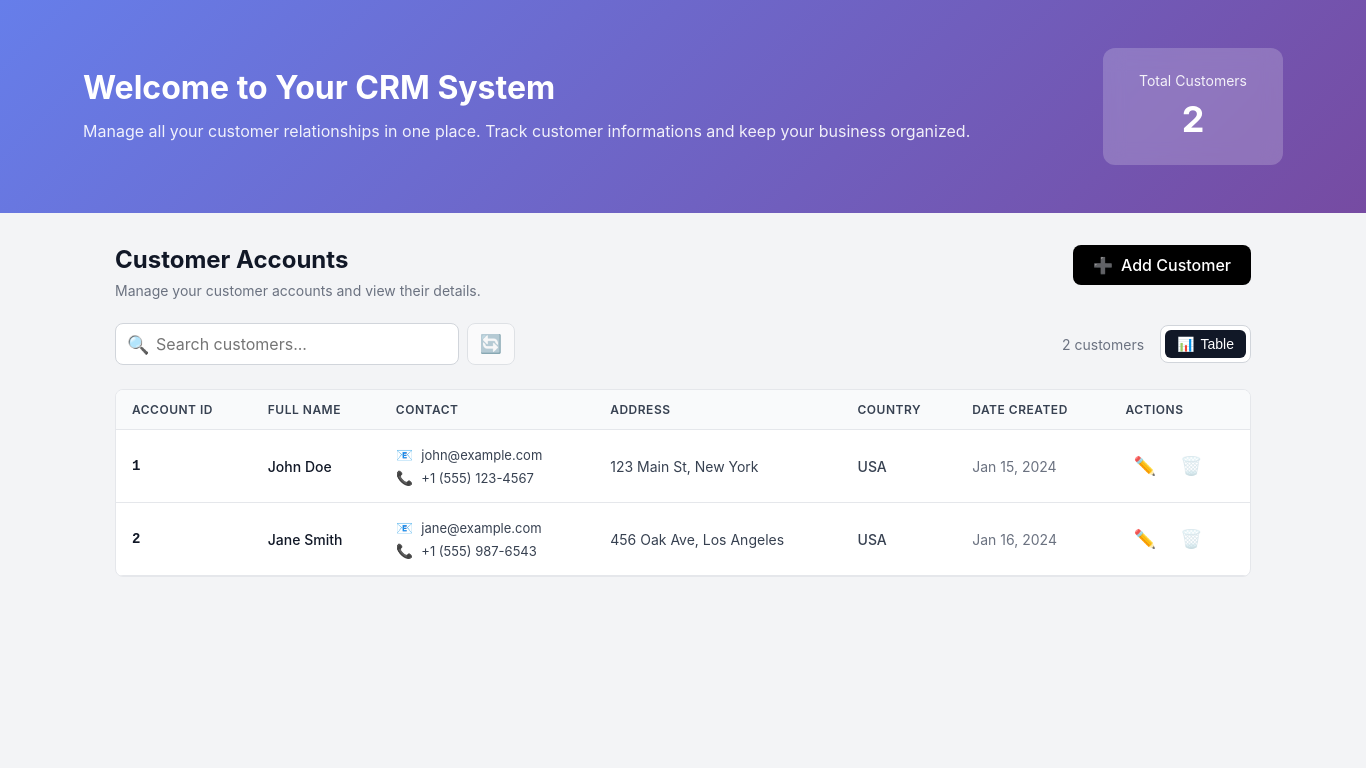
Test: CustomerAccounts Page › opens edit modal when edit button is clicked
The image size is (1366, 768).
Click the button named "edit customer": (1145, 466) x1=1126 y1=451 x2=1164 y2=481
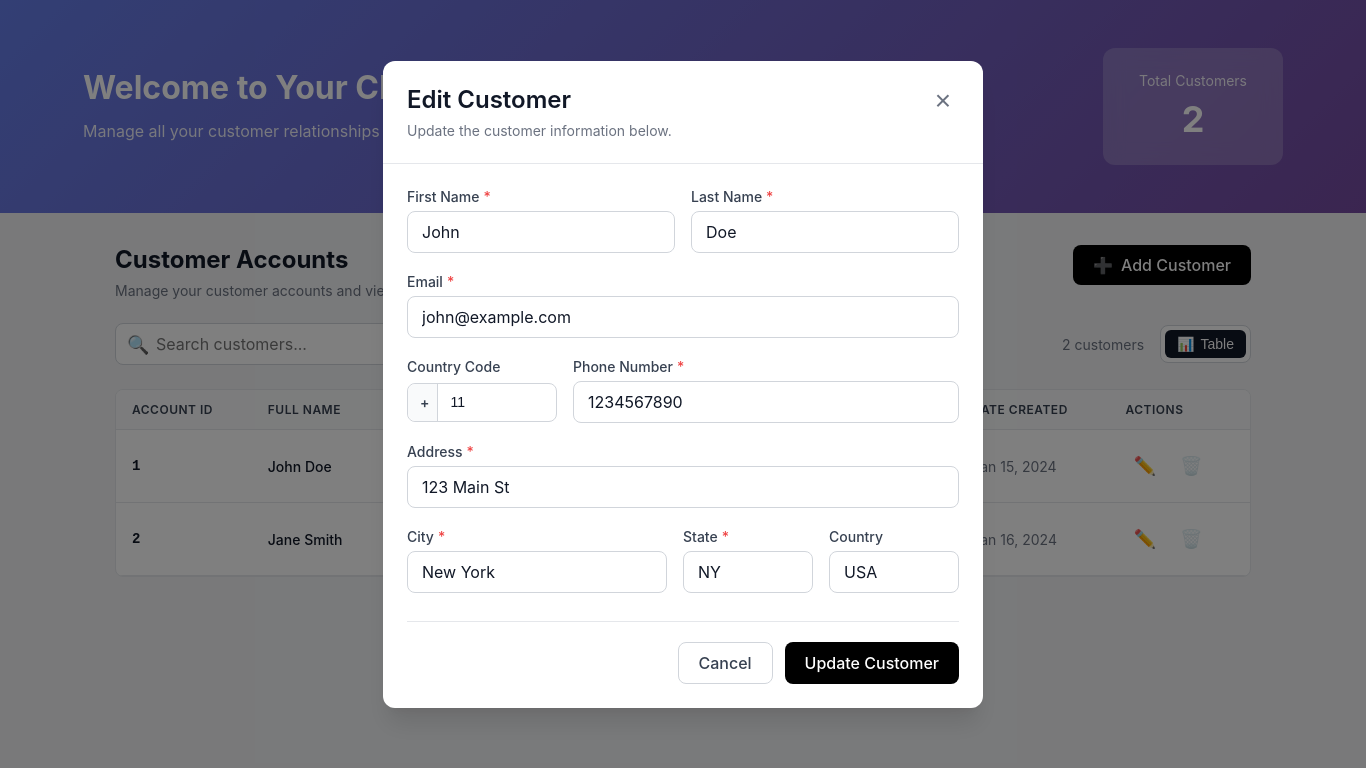
Check: the heading "Edit Customer" is shown, box x1=407 y1=84 x2=571 y2=114
